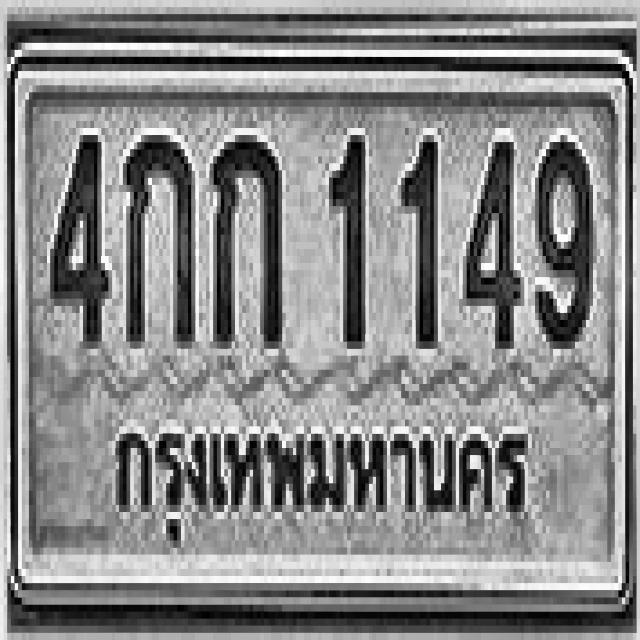license-plate: (11, 46, 630, 614)
